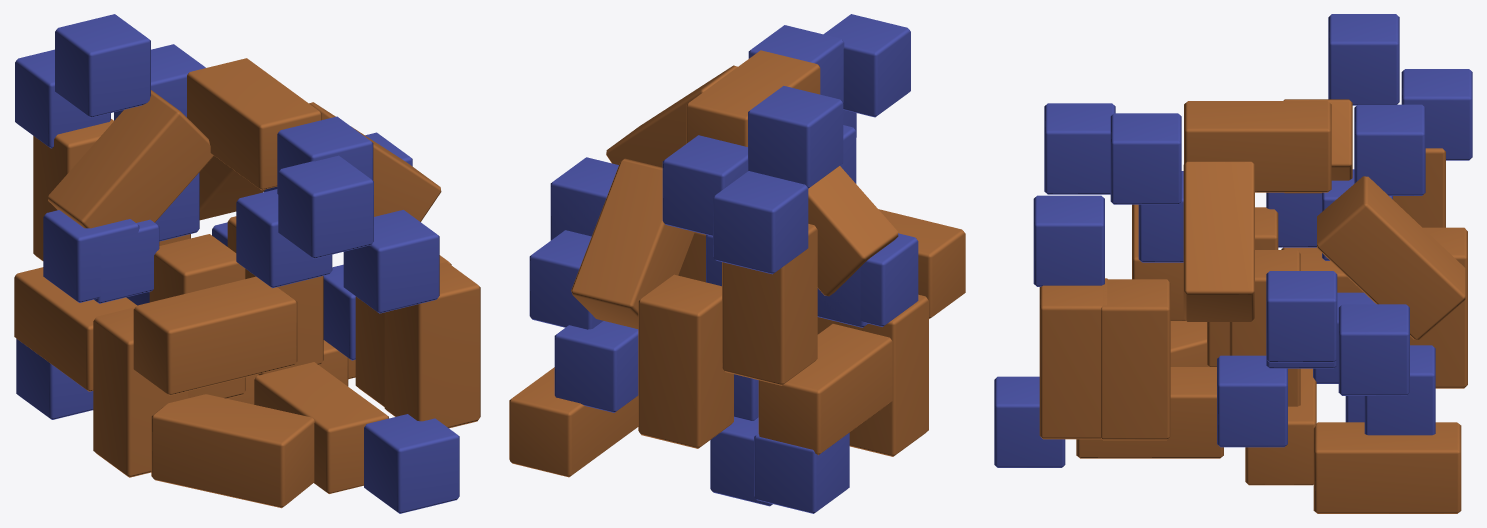
File: cubehouse.fbx
3 views of the same model, side by side, from view 1: azimuth 30°, elevation 25°; view 2: azimuth 150°, elevation 25°; view 3: azimuth 270°, elevation 25° (orthographic). The views are drawn at different scales.
Visible parts, largest first — view 1: longcube14, longcube43, longcube7, longcube40, longcube41, longcube2, longcube11, pCube12, pCube40, pCube36, pCube9, longcube10 (+16 smaller); view 2: longcube, longcube4, longcube10, longcube42, longcube12, pCube11, pCube12, longcube2, longcube7, pCube3, longcube41, pCube40 (+15 smaller); view 3: longcube4, longcube12, longcube8, longcube41, longcube1, longcube40, pCube14, pCube38, pCube1, pCube9, pCube12, pCube2 (+20 smaller).
Part boxes in pixels (x1=…): longcube14: x1=133, y1=276, x2=297, y2=395; longcube43: x1=151, y1=394, x2=314, y2=508; longcube7: x1=48, y1=90, x2=213, y2=228; longcube40: x1=384, y1=262, x2=480, y2=428; longcube41: x1=187, y1=58, x2=321, y2=190; longcube2: x1=93, y1=307, x2=187, y2=477; longcube11: x1=254, y1=362, x2=388, y2=493; pCube12: x1=55, y1=14, x2=150, y2=117; pCube40: x1=278, y1=155, x2=373, y2=258; pCube36: x1=364, y1=414, x2=459, y2=513; pCube9: x1=343, y1=210, x2=439, y2=313; longcube10: x1=14, y1=267, x2=136, y2=391; longcube: x1=638, y1=274, x2=733, y2=448; longcube4: x1=571, y1=158, x2=694, y2=328; longcube10: x1=758, y1=324, x2=892, y2=455; longcube42: x1=722, y1=224, x2=817, y2=385; longcube12: x1=509, y1=367, x2=638, y2=477; pCube11: x1=713, y1=171, x2=808, y2=274; pCube12: x1=748, y1=86, x2=843, y2=188; longcube2: x1=835, y1=294, x2=928, y2=456; longcube7: x1=808, y1=166, x2=898, y2=296; pCube3: x1=554, y1=321, x2=638, y2=412; longcube41: x1=686, y1=50, x2=820, y2=146; pCube40: x1=823, y1=14, x2=910, y2=117; longcube4: x1=1317, y1=176, x2=1465, y2=339; longcube12: x1=1313, y1=422, x2=1461, y2=513; longcube8: x1=1183, y1=161, x2=1254, y2=321; longcube41: x1=1184, y1=101, x2=1331, y2=192; longcube1: x1=1101, y1=279, x2=1170, y2=440; longcube40: x1=1039, y1=278, x2=1107, y2=439; pCube14: x1=1110, y1=113, x2=1181, y2=204; pCube38: x1=1266, y1=271, x2=1337, y2=362; pCube1: x1=1338, y1=304, x2=1409, y2=395; pCube9: x1=1033, y1=195, x2=1104, y2=286; pCube12: x1=1328, y1=14, x2=1399, y2=105; pCube2: x1=1217, y1=355, x2=1287, y2=447.
Bounding box in the file's own units: 53.29 × 58.29 × 67.25.
